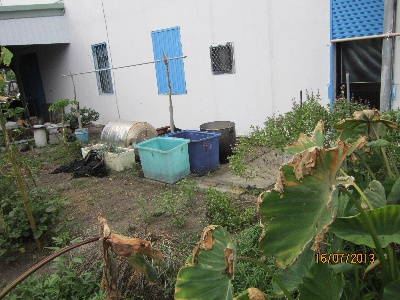box: (134, 135, 192, 186), (167, 128, 223, 177)
bucket: (198, 119, 238, 166)
plastic_bag: (49, 150, 112, 179)
water_tower: (100, 119, 159, 159)
